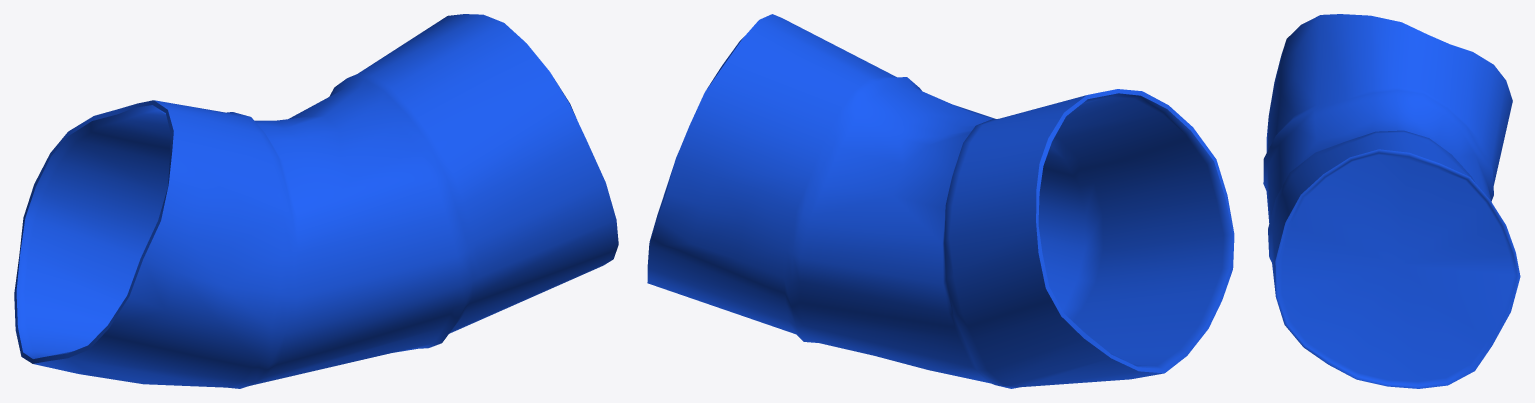
File: barrel_open_damage4.fbx
The picture shows the model from 3 angles, left to right: view 1: azimuth 30°, elevation 25°; view 2: azimuth 150°, elevation 25°; view 3: azimuth 270°, elevation 25°; orthographic projection. The views are drawn at different scales.
Visible parts, largest first — view 1: barrel_open_damage4; view 2: barrel_open_damage4; view 3: barrel_open_damage4.
Part boxes in pixels (<box>): barrel_open_damage4: <box>14,14,618,388</box>; barrel_open_damage4: <box>647,14,1234,388</box>; barrel_open_damage4: <box>1263,14,1520,388</box>.
Bounding box in the file's own units: 99.67 × 52.33 × 51.52.
